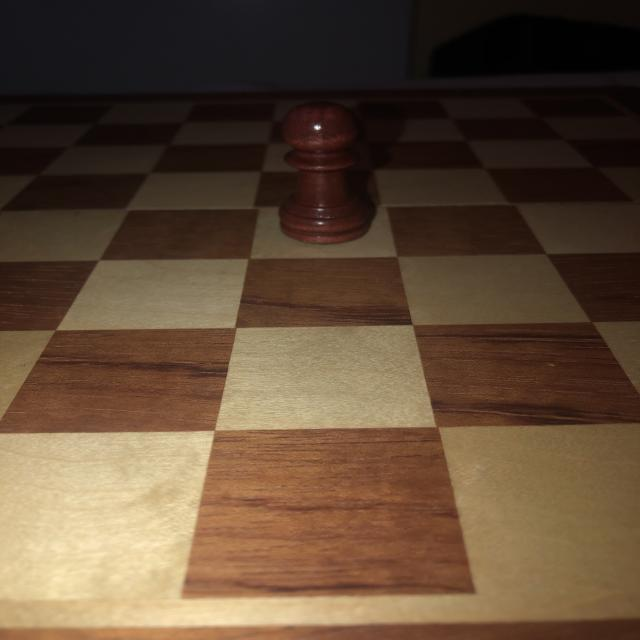black_pawn: (275, 99, 381, 255)
